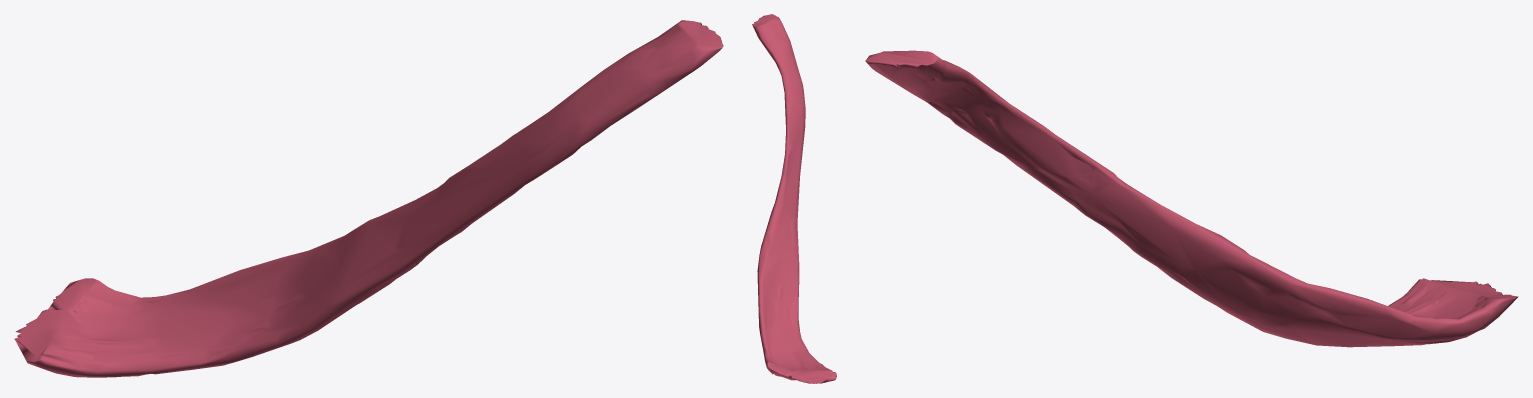
The picture shows the model from 3 angles, left to right: view 1: azimuth 30°, elevation 25°; view 2: azimuth 150°, elevation 25°; view 3: azimuth 270°, elevation 25°; orthographic projection. The views are drawn at different scales.
Visible parts, largest first — view 1: 左侧胸大肌腹部; view 2: 左侧胸大肌腹部; view 3: 左侧胸大肌腹部.
Part boxes in pixels (x1=…): 左侧胸大肌腹部: x1=14, y1=20, x2=723, y2=377; 左侧胸大肌腹部: x1=752, y1=14, x2=836, y2=383; 左侧胸大肌腹部: x1=865, y1=50, x2=1518, y2=347.
Size of the model in its own units: 0.1947 by 0.196 by 0.2606.
